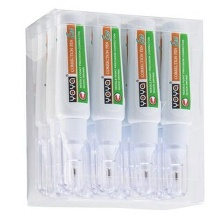book: (22, 4, 208, 212)
correction_fluid: (86, 10, 128, 196), (123, 13, 162, 197), (53, 8, 91, 195), (159, 18, 195, 199)
